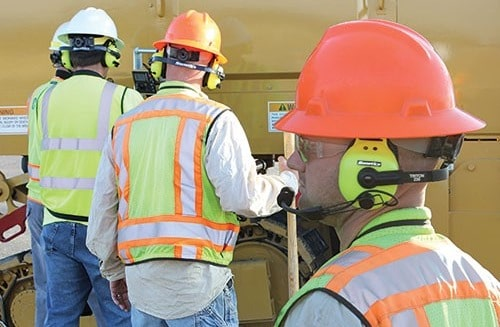epi: (275, 15, 500, 320), (116, 8, 280, 327), (31, 1, 144, 327)
